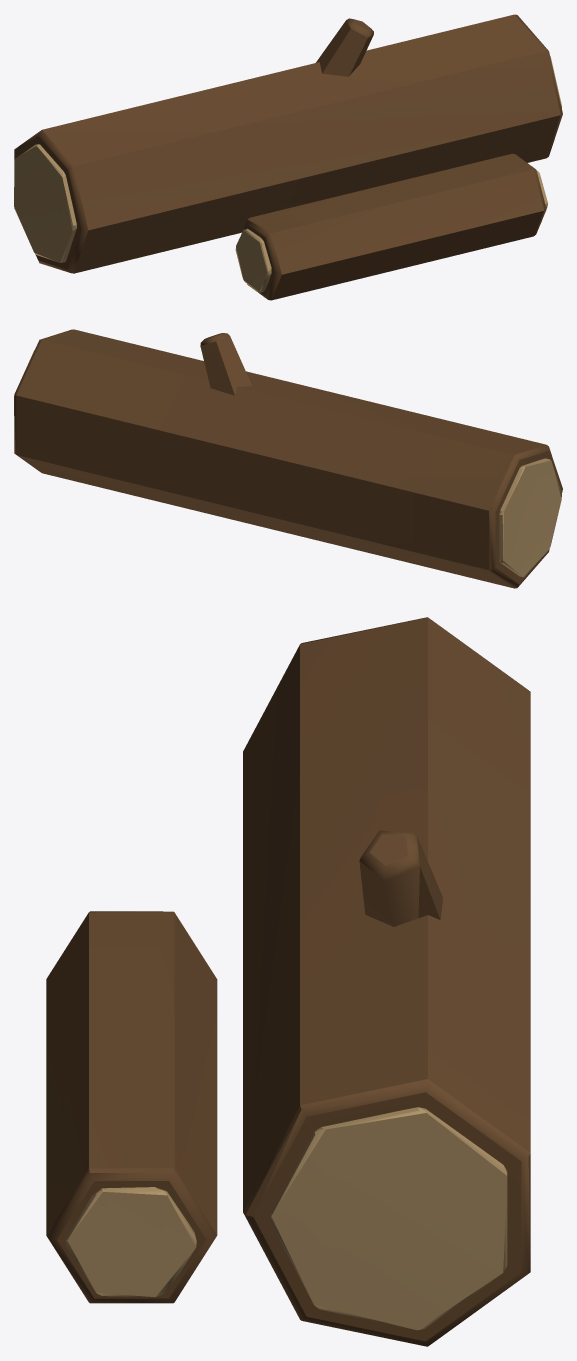
File: prop_log_lod1.glb
3 renders of one model, top to bottom at view 1: azimuth 30°, elevation 25°; view 2: azimuth 150°, elevation 25°; view 3: azimuth 270°, elevation 25°, orthographic. The views are drawn at different scales.
Visible parts, largest first — view 1: prop_log_lod1; view 2: prop_log_lod1; view 3: prop_log_lod1.
Part boxes in pixels (left/top/right/bottom): prop_log_lod1: left=14, top=14, right=562, bottom=300; prop_log_lod1: left=14, top=329, right=562, bottom=588; prop_log_lod1: left=46, top=617, right=530, bottom=1346.
Bounding box in the file's own units: 2.24 × 0.8036 × 0.9591.
